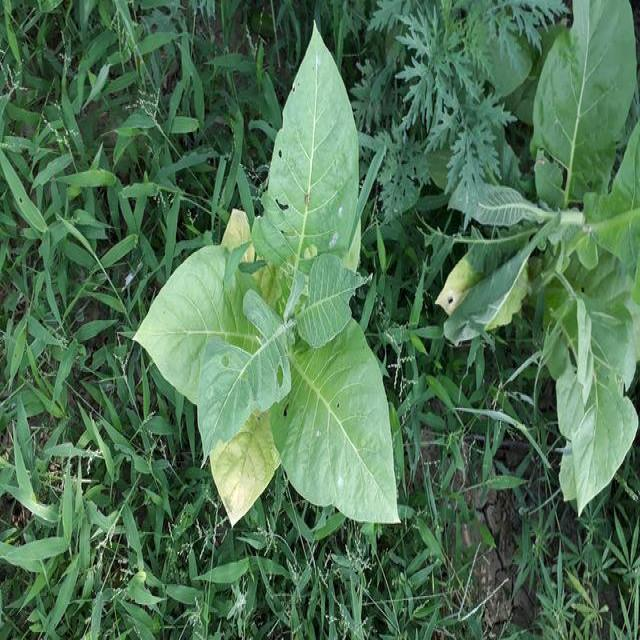crop: (142, 35, 416, 541), (552, 4, 640, 517)
